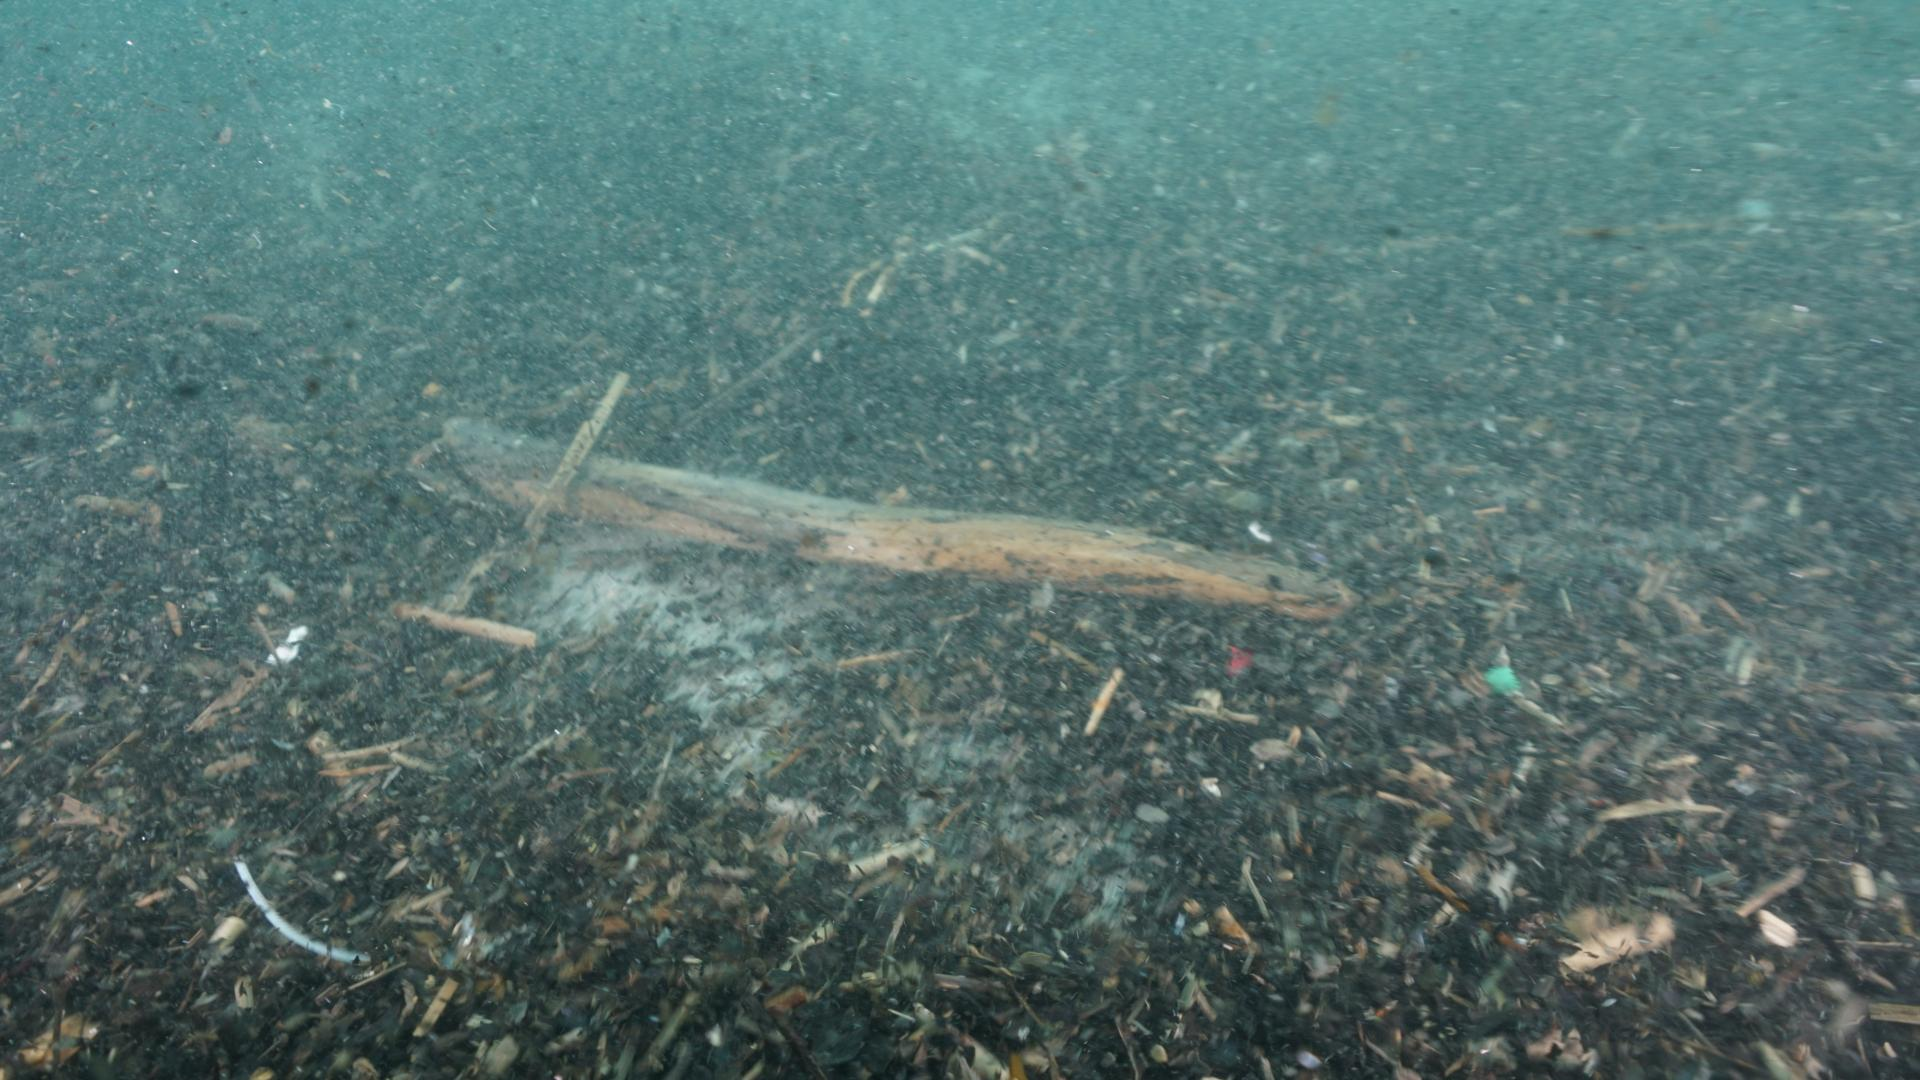wood: (407, 411, 1358, 626)
